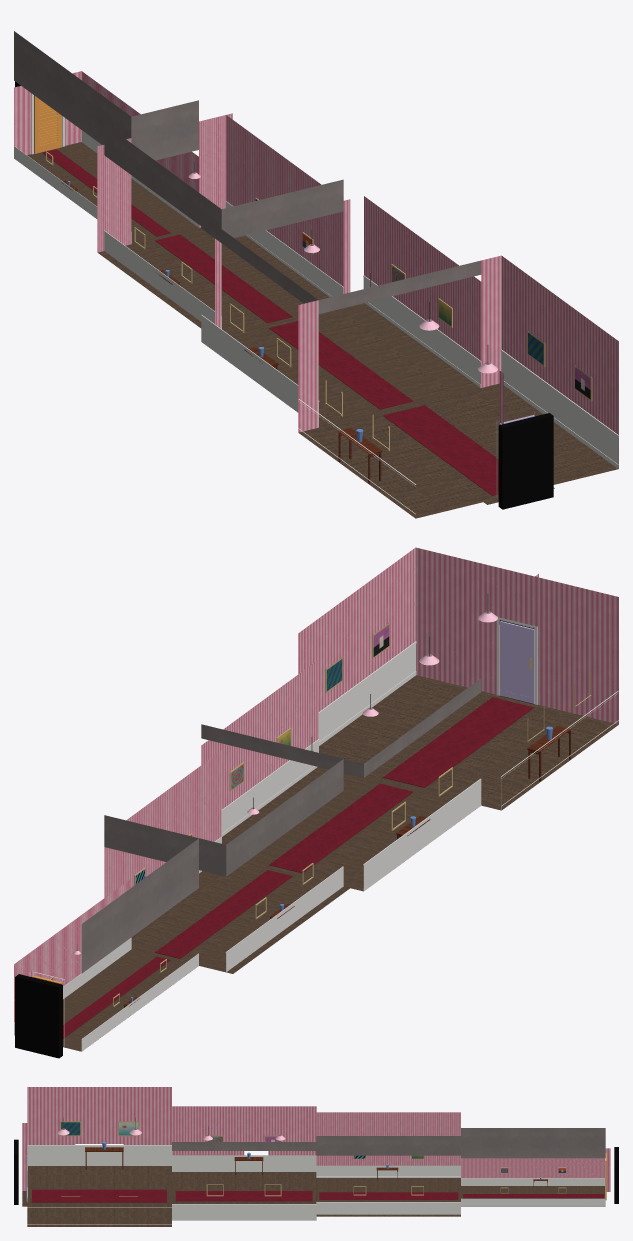
The model's file is rdwe_shrink_hall.glb.
3 views of the same model, one above another, from view 1: azimuth 30°, elevation 25°; view 2: azimuth 150°, elevation 25°; view 3: azimuth 270°, elevation 25° (orthographic). The views are drawn at different scales.
Parts seen in each view (by area): view 1: Paper_Stripe, Floor_Boards, Ceiling_Pink, Trim_White, Runner, Void_Black, Frame_Gilt, DoorLeaf_small, Paintings, Wood_Dark; view 2: Paper_Stripe, Floor_Boards, Ceiling_Pink, Trim_White, Runner, Void_Black, DoorLeaf_ames, Frame_Gilt, Paintings, Wood_Dark; view 3: Paper_Stripe, Floor_Boards, Trim_White, Ceiling_Pink, Runner, Paintings, Frame_Gilt, Void_Black, Wood_Dark, Shade_Pink.
Part boxes in pixels (x1=…): Paper_Stripe: x1=14, y1=71, x2=618, y2=468; Floor_Boards: x1=27, y1=142, x2=618, y2=518; Ceiling_Pink: x1=14, y1=31, x2=481, y2=313; Trim_White: x1=14, y1=93, x2=618, y2=514; Runner: x1=42, y1=149, x2=498, y2=495; Void_Black: x1=15, y1=81, x2=553, y2=509; Frame_Gilt: x1=46, y1=151, x2=592, y2=450; DoorLeaf_small: x1=34, y1=95, x2=61, y2=153; Paintings: x1=255, y1=199, x2=590, y2=399; Wood_Dark: x1=62, y1=180, x2=382, y2=483; Paper_Stripe: x1=14, y1=547, x2=618, y2=1034; Floor_Boards: x1=14, y1=675, x2=618, y2=1051; Ceiling_Pink: x1=81, y1=678, x2=481, y2=973; Trim_White: x1=14, y1=617, x2=618, y2=1051; Runner: x1=63, y1=697, x2=534, y2=1038; Void_Black: x1=15, y1=620, x2=534, y2=1058; DoorLeaf_ames: x1=500, y1=621, x2=534, y2=704; Frame_Gilt: x1=49, y1=622, x2=591, y2=1006; Paintings: x1=51, y1=625, x2=389, y2=980; Wood_Dark: x1=124, y1=725, x2=571, y2=1007; Paper_Stripe: x1=22, y1=1087, x2=610, y2=1191; Floor_Boards: x1=22, y1=1166, x2=605, y2=1226; Trim_White: x1=27, y1=1143, x2=605, y2=1224; Ceiling_Pink: x1=172, y1=1128, x2=605, y2=1158; Runner: x1=32, y1=1189, x2=603, y2=1202; Paintings: x1=61, y1=1122, x2=565, y2=1172; Frame_Gilt: x1=60, y1=1121, x2=566, y2=1196; Void_Black: x1=14, y1=1139, x2=618, y2=1204; Wood_Dark: x1=85, y1=1147, x2=547, y2=1187; Shade_Pink: x1=57, y1=1128, x2=285, y2=1140.
Size of the model in its own units: 6 by 3.65 by 25.1.
16 materials, 7 textured.
